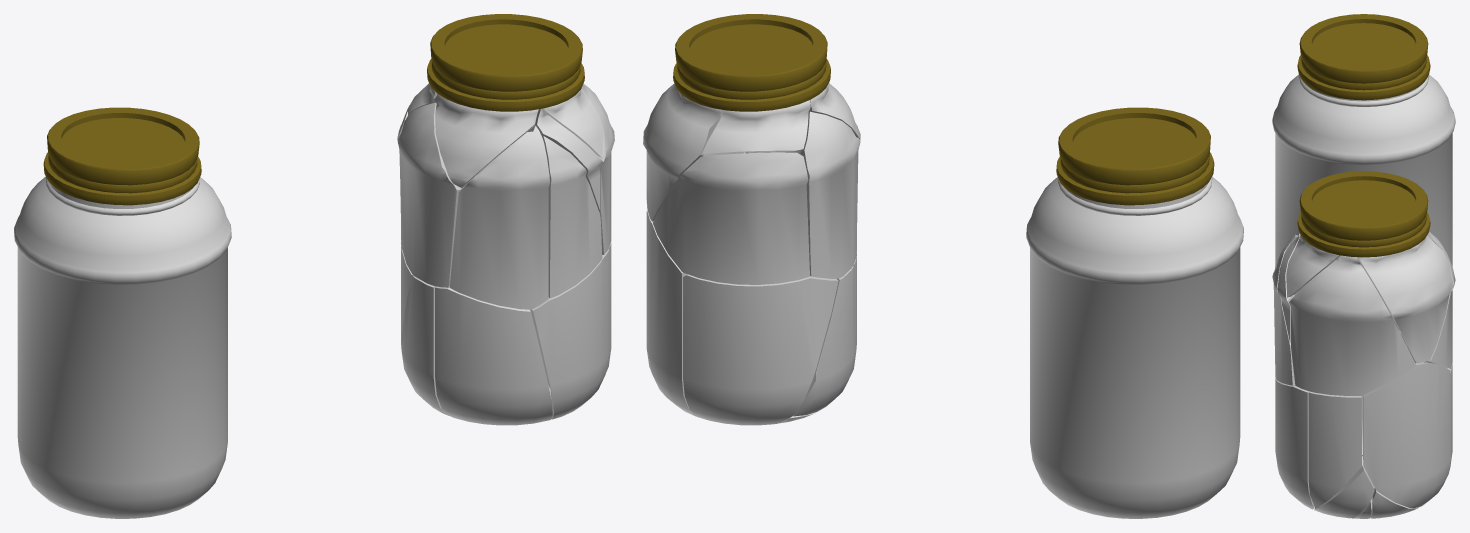
The model's file is jarate.fbx.
The picture shows the model from 3 angles, left to right: view 1: azimuth 30°, elevation 25°; view 2: azimuth 150°, elevation 25°; view 3: azimuth 270°, elevation 25°; orthographic projection. The views are drawn at different scales.
Visible parts, largest first — view 1: jarate jar, jarate jar.001_cell.018, jarate jar.001_cell.011, lid.001, jarate jar.001_cell.013, jarate jar.001_cell.014, jarate jar.001_cell.010, jarate jar.001_cell.017, jarate jar.001_cell.002, jarate jar.001_cell.001, jarate jar.001_cell.008, jarate jar.001_cell.012; view 2: jarate jar, jarate jar.001_cell.005, jarate jar.001_cell.016, lid.001, jarate jar.001_cell.014, jarate jar.001_cell.006, jarate jar.001_cell.019, jarate jar.001_cell.004, jarate jar.001_cell.002, jarate jar.001_cell.017; view 3: jarate jar, jarate jar.001_cell.012, jarate jar.001_cell.019, lid.001, jarate jar.001_cell.006, jarate jar.001_cell, jarate jar.001_cell.013, jarate jar.001_cell.001, jarate jar.001_cell.015, jarate jar.001_cell.010, jarate jar.001_cell.016, jarate jar.001_cell.008 (+2 smaller).
Boxes of the visible parts, x1,y1,x2,y2 form: jarate jar: (14, 107, 231, 518); jarate jar.001_cell.018: (449, 125, 549, 309); jarate jar.001_cell.011: (435, 286, 552, 425); lid.001: (427, 14, 584, 111); jarate jar.001_cell.013: (530, 248, 609, 419); jarate jar.001_cell.014: (397, 102, 461, 287); jarate jar.001_cell.010: (542, 136, 602, 298); jarate jar.001_cell.017: (434, 93, 538, 187); jarate jar.001_cell.002: (401, 275, 445, 413); jarate jar.001_cell.001: (541, 87, 603, 158); jarate jar.001_cell.008: (535, 109, 602, 211); jarate jar.001_cell.012: (581, 83, 614, 254); jarate jar: (1026, 107, 1243, 518); jarate jar.001_cell.005: (683, 274, 838, 425); jarate jar.001_cell.016: (653, 152, 809, 284); lid.001: (673, 14, 830, 111); jarate jar.001_cell.014: (800, 111, 860, 278); jarate jar.001_cell.006: (643, 83, 724, 221); jarate jar.001_cell.019: (646, 211, 695, 416); jarate jar.001_cell.004: (702, 100, 810, 154); jarate jar.001_cell.002: (793, 266, 853, 416); jarate jar.001_cell.017: (808, 83, 860, 139); jarate jar: (1272, 14, 1455, 265); jarate jar.001_cell.012: (1289, 255, 1415, 395); jarate jar.001_cell.019: (1363, 362, 1450, 507); lid.001: (1297, 171, 1430, 257); jarate jar.001_cell.006: (1358, 235, 1453, 363); jarate jar.001_cell: (1308, 391, 1361, 507); jarate jar.001_cell.013: (1275, 378, 1314, 509); jarate jar.001_cell.001: (1286, 235, 1340, 297); jarate jar.001_cell.015: (1314, 465, 1374, 518); jarate jar.001_cell.010: (1272, 244, 1295, 385); jarate jar.001_cell.016: (1428, 251, 1455, 368); jarate jar.001_cell.008: (1277, 233, 1300, 342).
Bounding box in the file's own units: 74.64 × 43.66 × 24.64.
